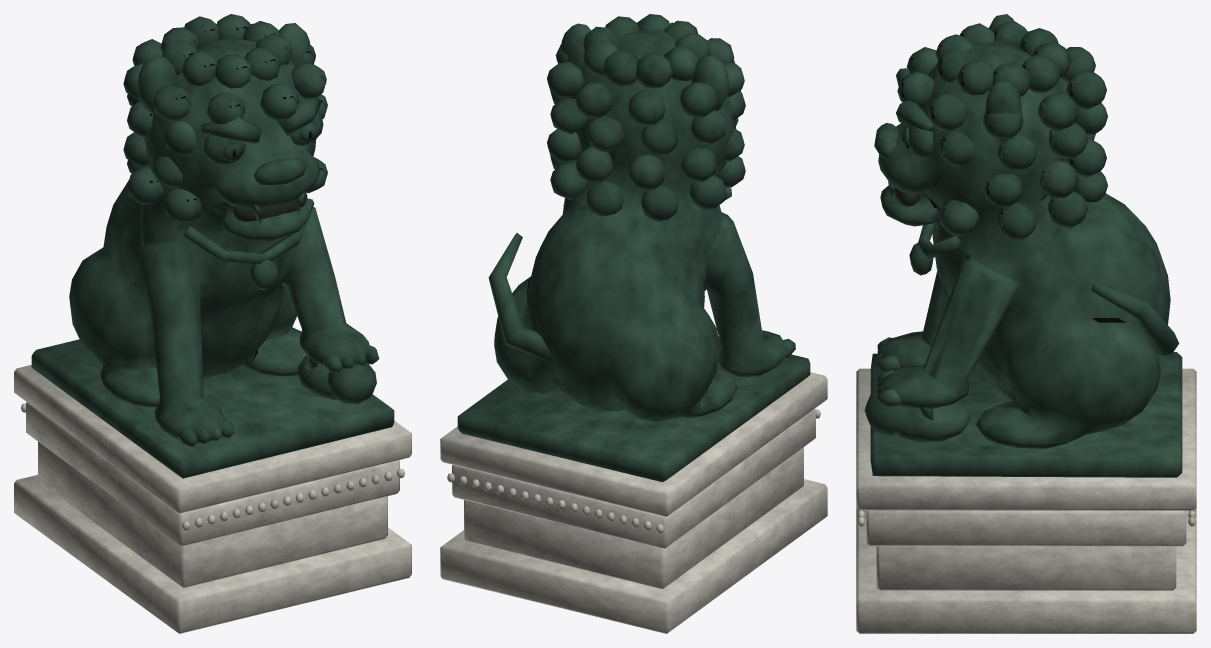
Rendered from leijona-naaras.glb.
3 renders of one model, left to right at view 1: azimuth 30°, elevation 25°; view 2: azimuth 150°, elevation 25°; view 3: azimuth 270°, elevation 25°, orthographic. The views are drawn at different scales.
Visible parts, largest first — view 1: vihrea-pronssipatina, vaalea-kivi; view 2: vihrea-pronssipatina, vaalea-kivi; view 3: vihrea-pronssipatina, vaalea-kivi.
Boxes of the visible parts, <box> form: vihrea-pronssipatina: <box>31,14,394,478</box>; vaalea-kivi: <box>14,365,411,633</box>; vihrea-pronssipatina: <box>457,14,810,482</box>; vaalea-kivi: <box>440,372,827,633</box>; vihrea-pronssipatina: <box>864,14,1182,477</box>; vaalea-kivi: <box>856,368,1196,633</box>.
Bounding box in the file's own units: 2.09 × 4.4 × 2.55.
2 materials, 2 textured.
